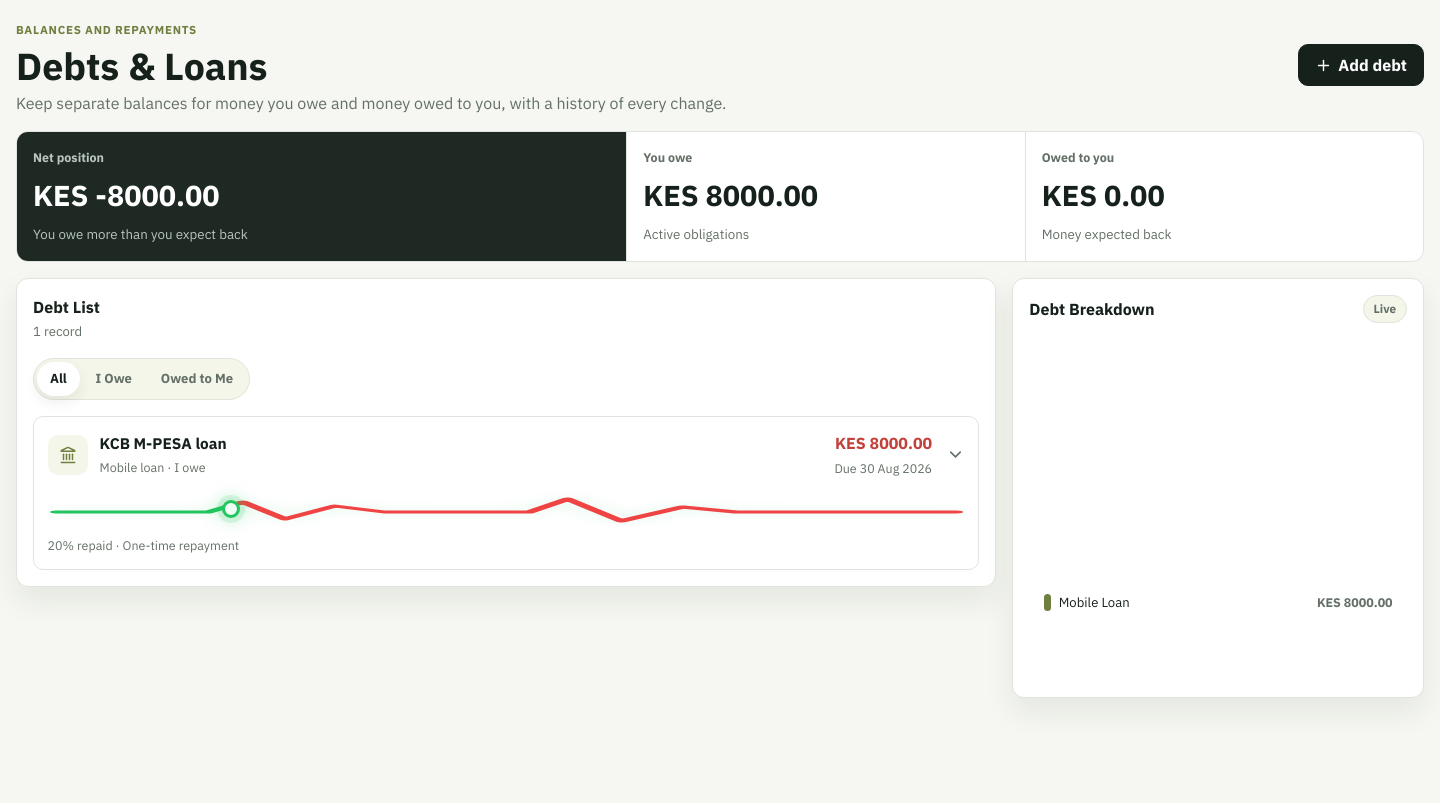
Scenario: Debts › keeps cards compact, expands details, and closes on an outside click
Check: the text "Declared fees" is not shown
Click the button "KCB M-PESA loan" at (506, 493), box left=34, top=417, right=978, bottom=569
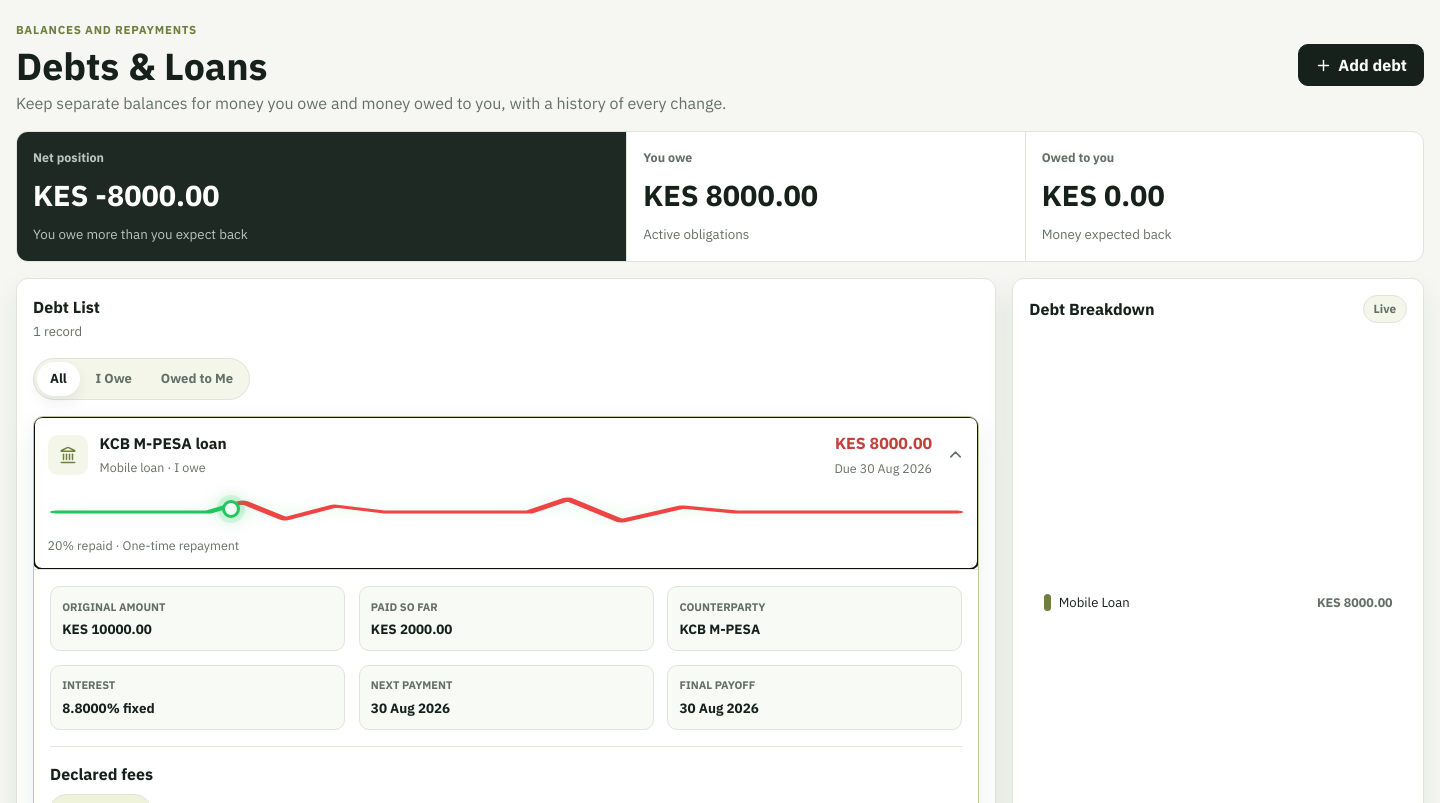
Check: the heading "Declared fees" is shown, box left=50, top=764, right=153, bottom=784
Click the heading "Debts & Loans" at (142, 65), box left=16, top=41, right=268, bottom=90
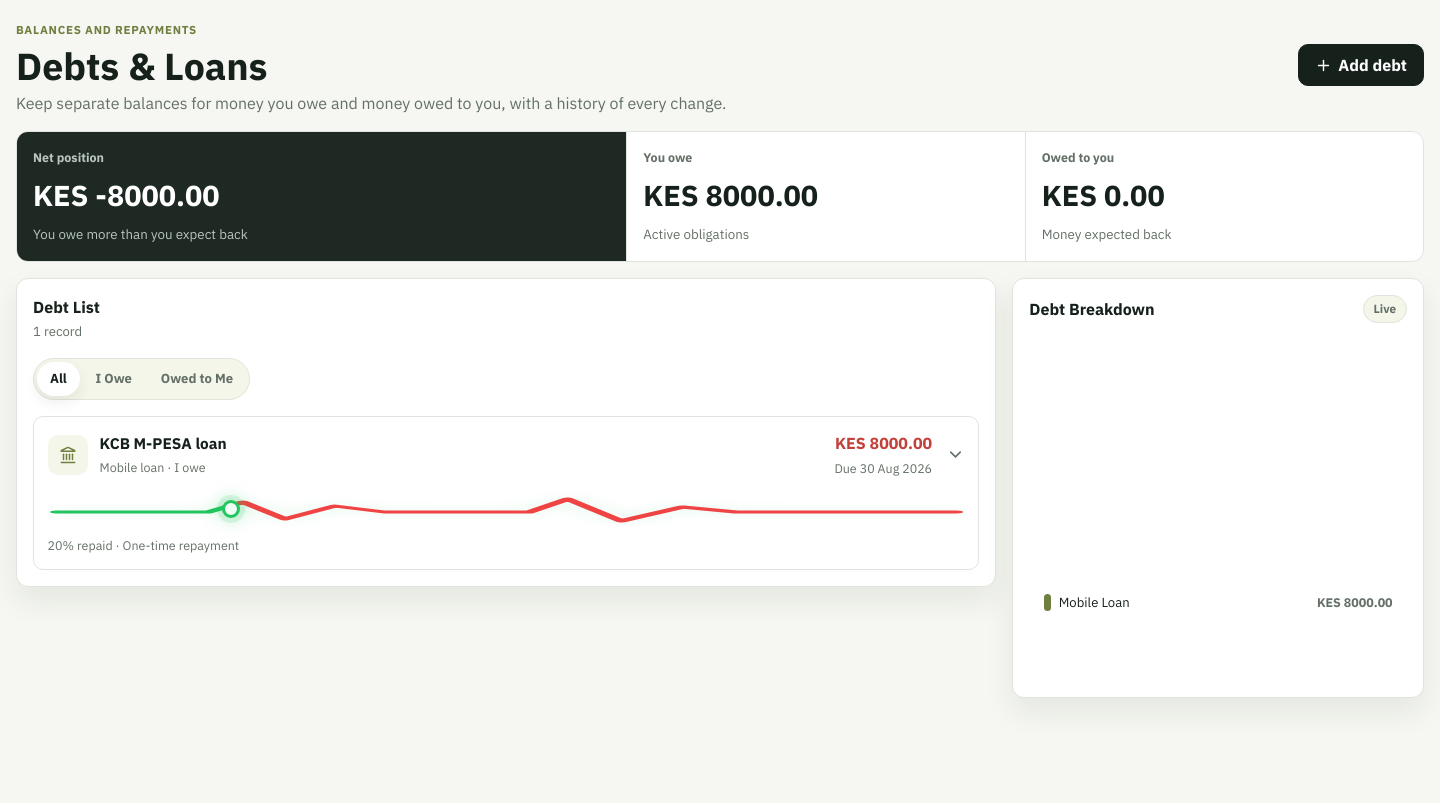
Check: the heading "Declared fees" is gone
